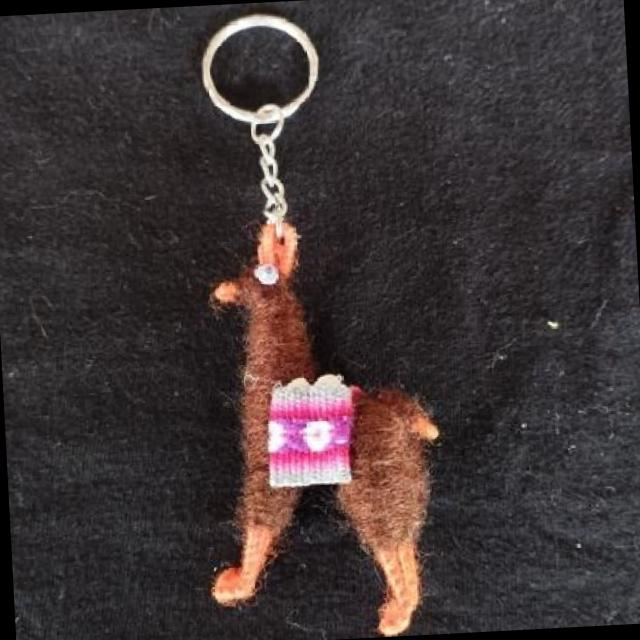Llavero: (190, 210, 450, 640)
